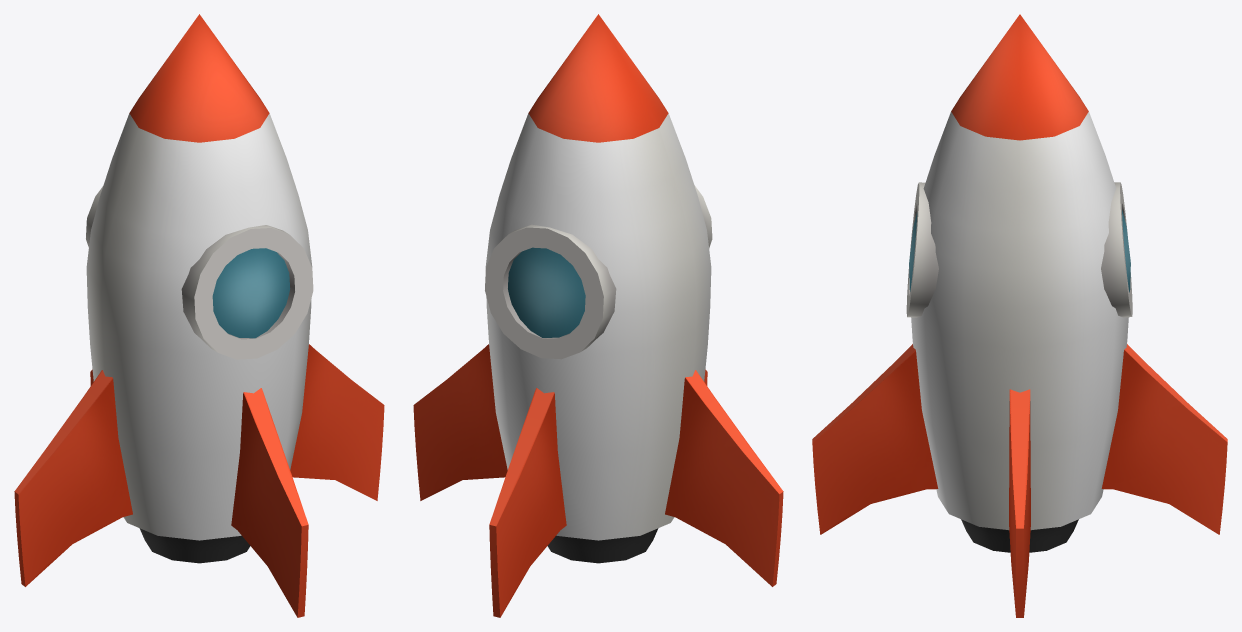
The model's file is rocket.FBX.
3 renders of one model, left to right at view 1: azimuth 30°, elevation 25°; view 2: azimuth 150°, elevation 25°; view 3: azimuth 270°, elevation 25°, orthographic.
Visible parts, largest first — view 1: rocket; view 2: rocket; view 3: rocket.
Part boxes in pixels (bbox=[...]): rocket: bbox=[14, 14, 384, 617]; rocket: bbox=[413, 14, 783, 617]; rocket: bbox=[812, 14, 1227, 617].
Size of the model in its own units: 34.54 by 47.68 by 34.54.
